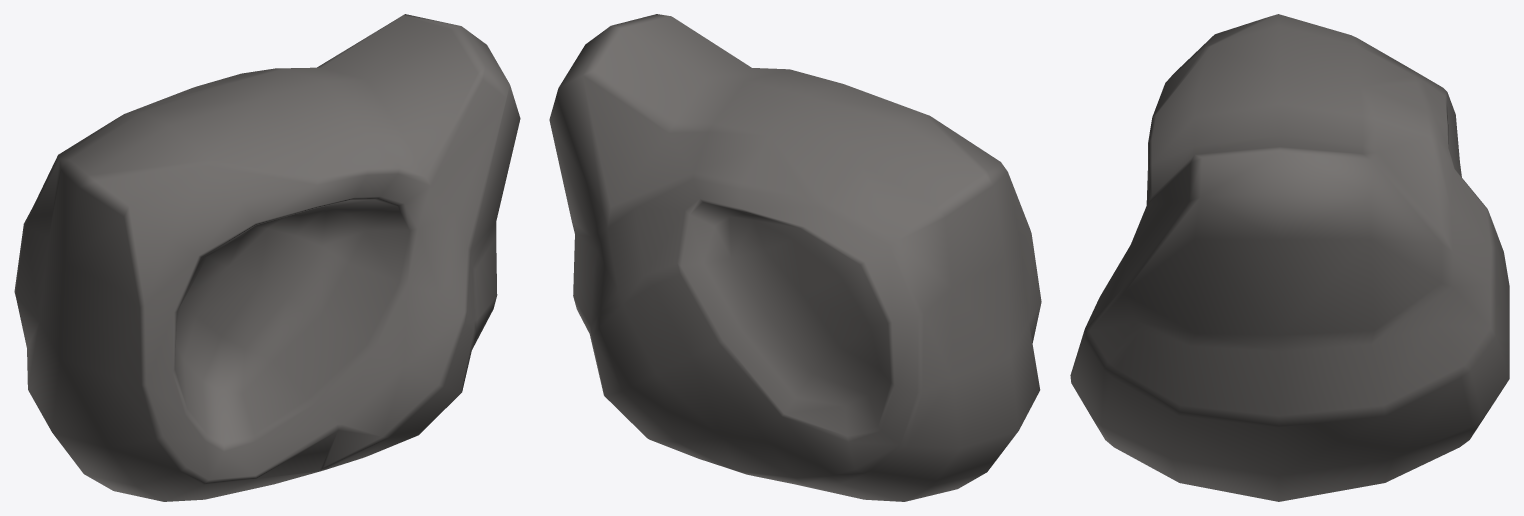
Rendered from _Meteorite_05.fbx.
3 views of the same model, side by side, from view 1: azimuth 30°, elevation 25°; view 2: azimuth 150°, elevation 25°; view 3: azimuth 270°, elevation 25° (orthographic). The views are drawn at different scales.
Parts seen in each view (by area): view 1: Meteorite_05; view 2: Meteorite_05; view 3: Meteorite_05.
Boxes of the visible parts, box(x1,y1,x2,y2) form: Meteorite_05: box(14, 14, 520, 501); Meteorite_05: box(549, 14, 1041, 501); Meteorite_05: box(1070, 14, 1509, 501).
Bounding box in the file's own units: 158 × 132 × 122.
Materials: 1 (1 with a texture image).
